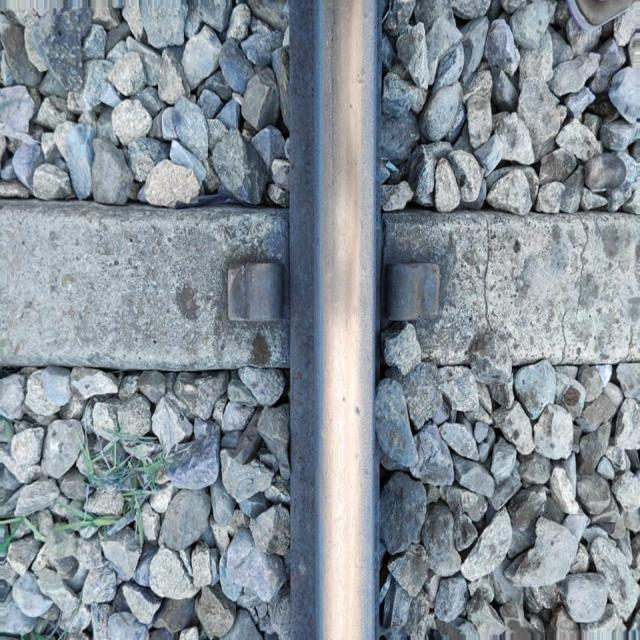Missing Fastener: (206, 247, 295, 353), (366, 245, 463, 341)
